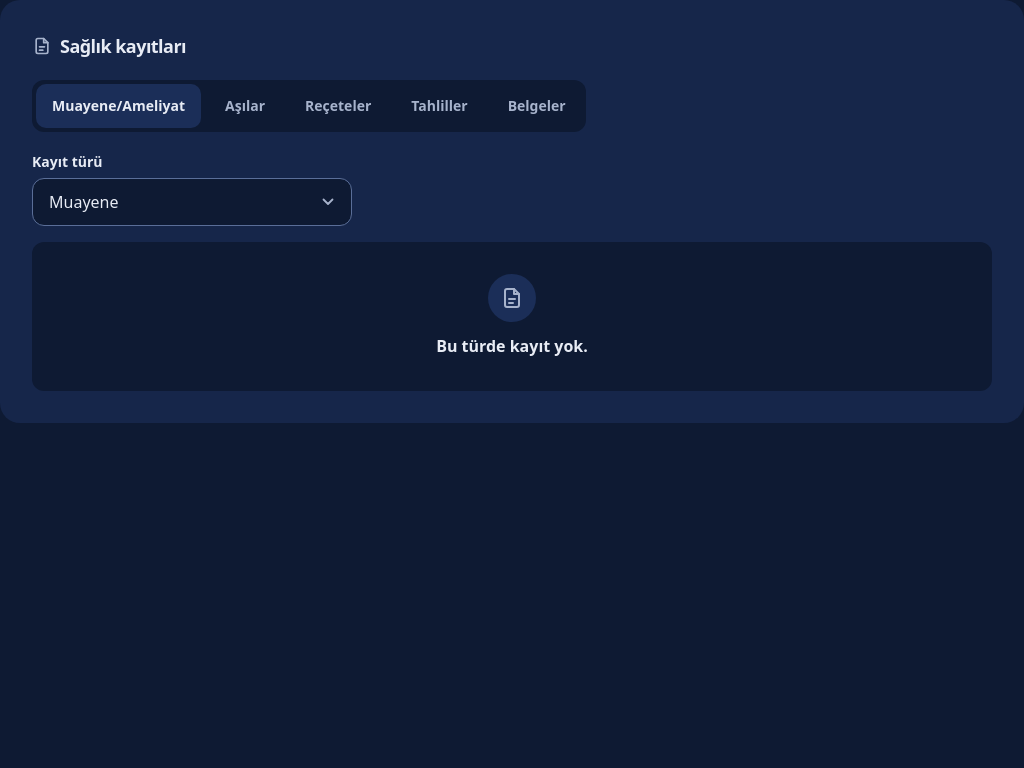
Belgeler sekmesi › indirme yöneticisi dosyayı yakalarsa nedenini söyler
Click the tab "Belgeler" at (537, 106), box [492,84,582,128]
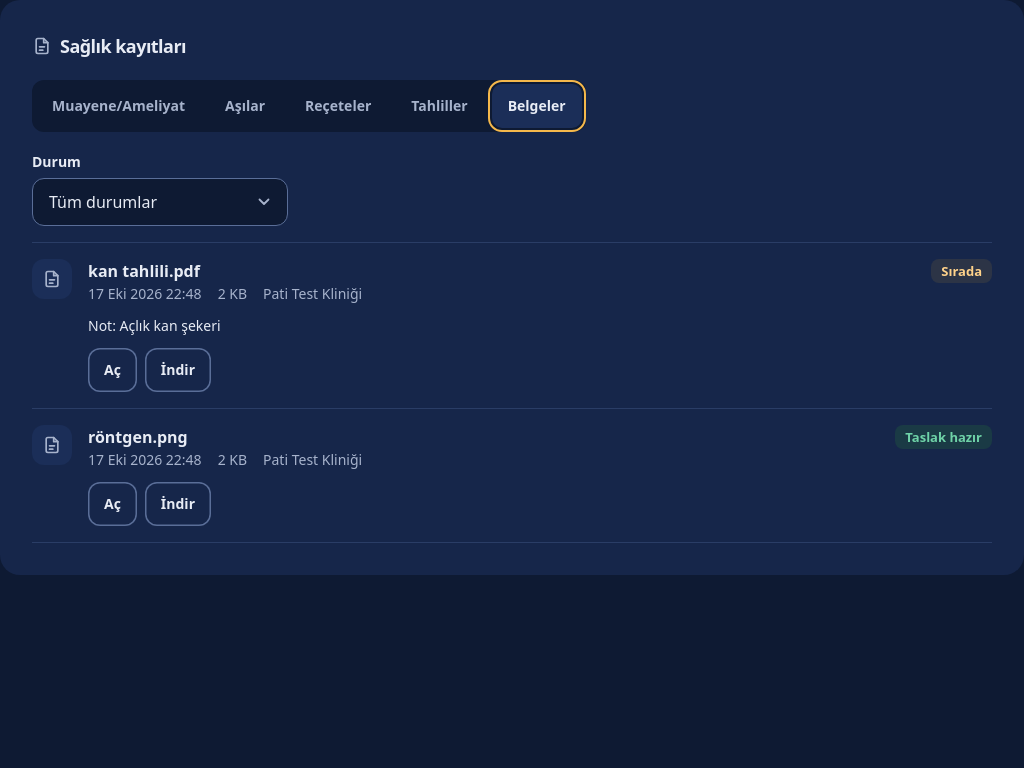
Click the button named "İndir: kan tahlili.pdf" at (178, 370), box [145,348,211,392]
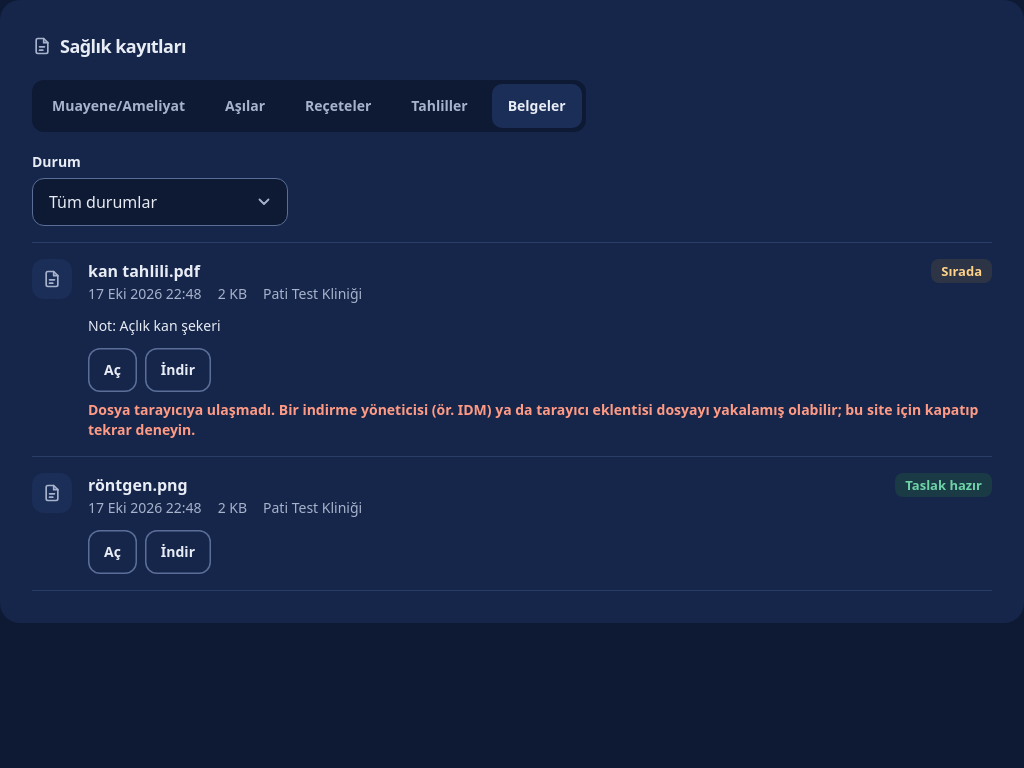
Now the message shows "indirme yöneticisi (ör. IDM)", box [88,400,978,439]
